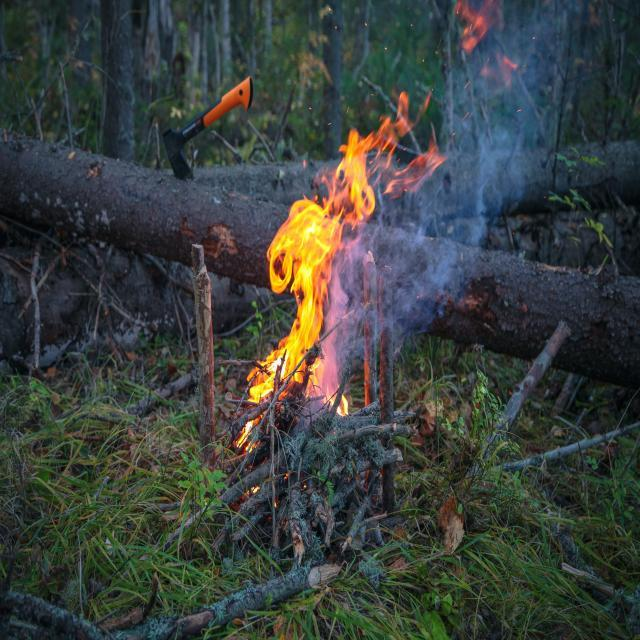Fire: (230, 94, 442, 450)
Smoke: (444, 0, 572, 289)
